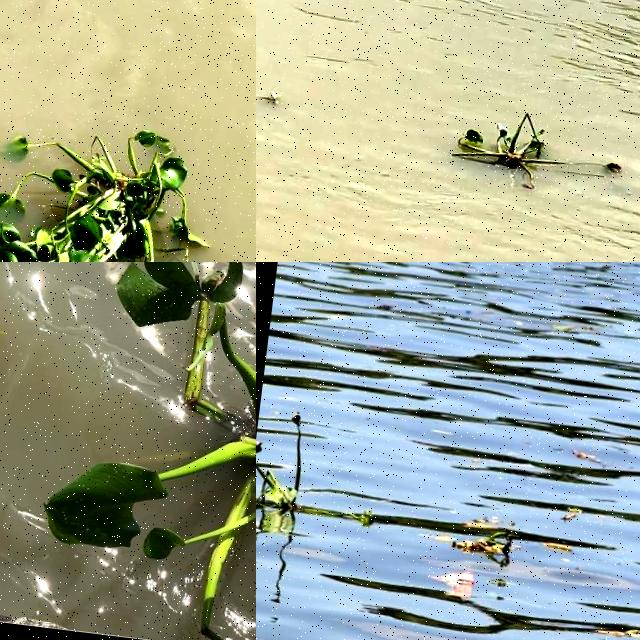water-hyacinth: (1, 263, 257, 640), (1, 103, 211, 263), (447, 102, 632, 200), (257, 410, 367, 522)
